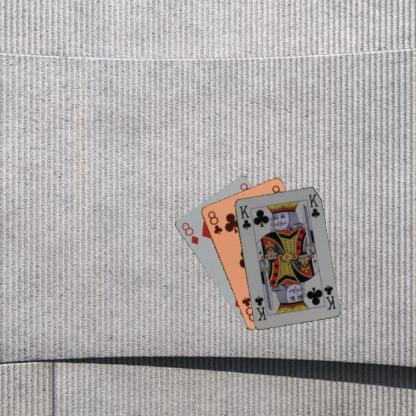8c: (204, 208, 223, 236)
8d: (178, 220, 200, 246)
Kc: (321, 282, 337, 311), (237, 202, 252, 231)
